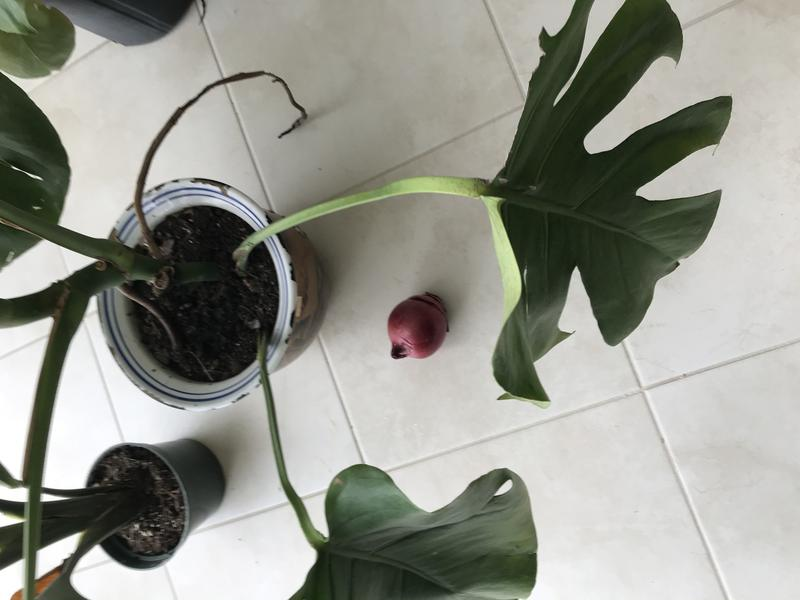purple_onion: (380, 282, 460, 369)
